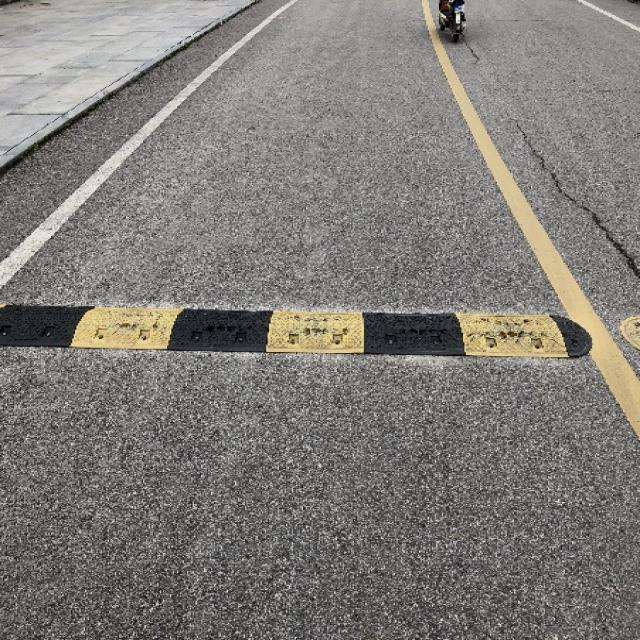Speed Bump: (4, 302, 594, 358)
